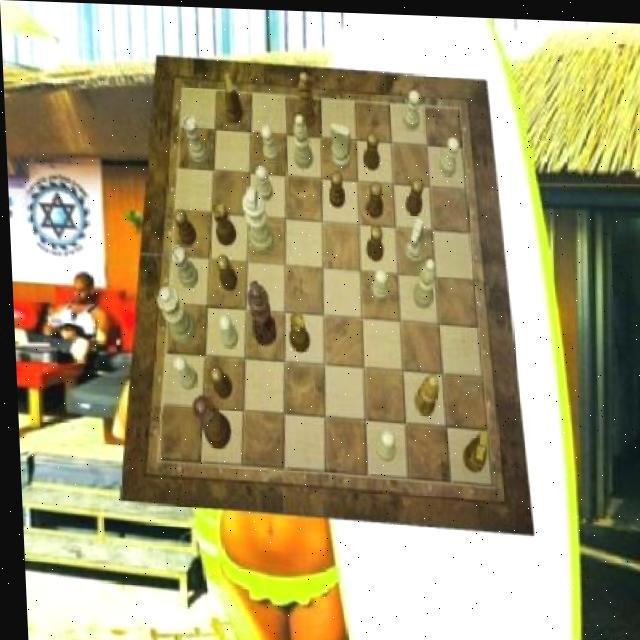bishop: (295, 70, 316, 128), (409, 370, 435, 413)
black-bishop: (245, 278, 274, 344)
black-king: (459, 427, 486, 469), (222, 71, 243, 122)
black-knight: (172, 209, 196, 246), (206, 364, 230, 399), (361, 130, 380, 169), (215, 254, 236, 289), (364, 221, 383, 259), (404, 175, 423, 213), (364, 180, 383, 216), (327, 168, 344, 206)
black-pawn: (189, 393, 228, 448)
black-queen: (210, 198, 235, 244), (286, 311, 308, 352)
black-rook: (410, 255, 435, 306), (292, 112, 313, 167)
white-bishop: (240, 186, 273, 254)
white-king: (401, 215, 423, 263), (330, 120, 352, 168)
white-knight: (438, 134, 460, 173), (171, 354, 195, 389), (401, 87, 420, 129), (259, 123, 278, 162), (215, 314, 235, 349), (373, 427, 393, 460), (253, 164, 271, 199), (368, 267, 386, 300)
white-pawn: (155, 284, 194, 344)
white-queen: (182, 114, 208, 163), (168, 243, 197, 286)
